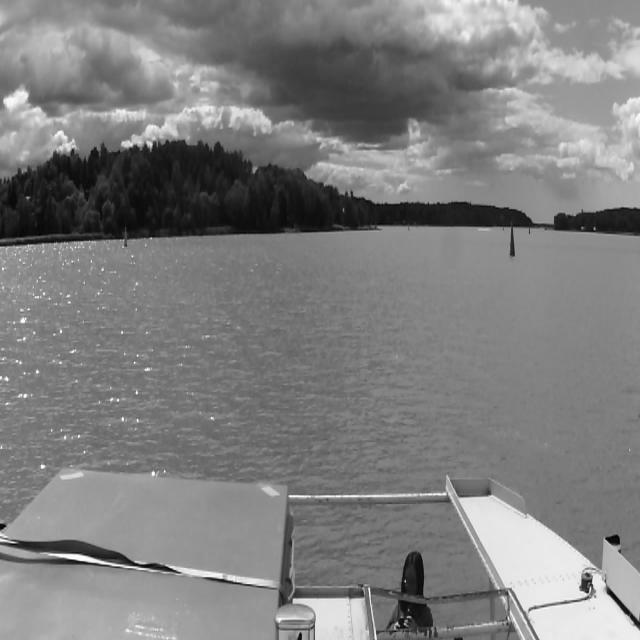buoy: (509, 224, 515, 256), (124, 228, 127, 246)
